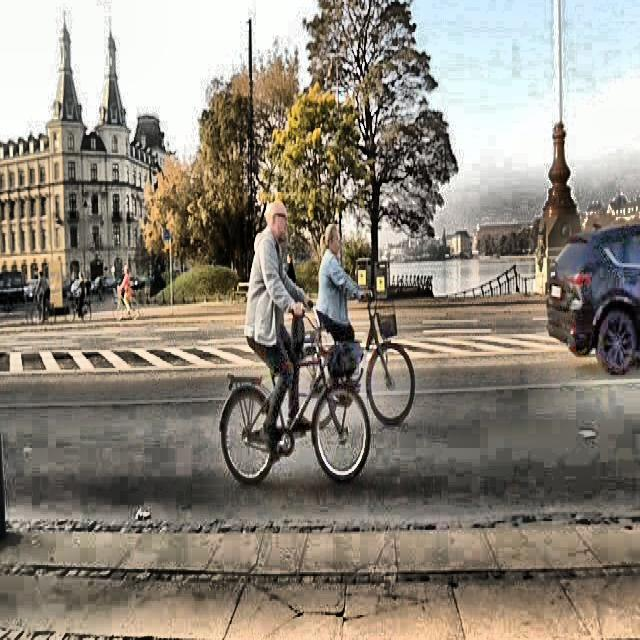bicycle: (218, 325, 374, 494), (316, 305, 415, 426)
